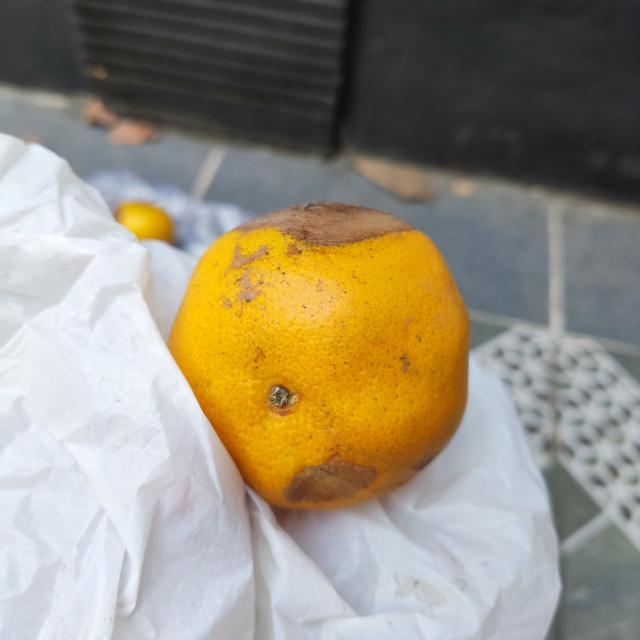orange: (169, 202, 469, 511)
